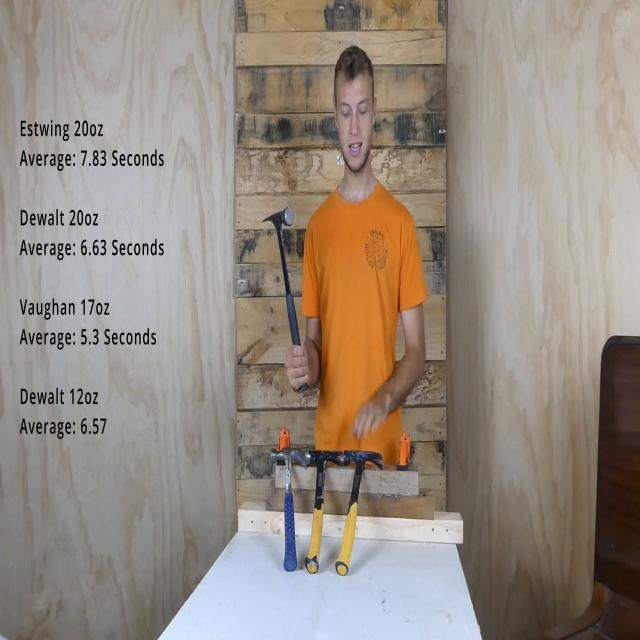hammer: (263, 206, 308, 390), (334, 448, 382, 576), (302, 452, 348, 572), (272, 444, 307, 572)
